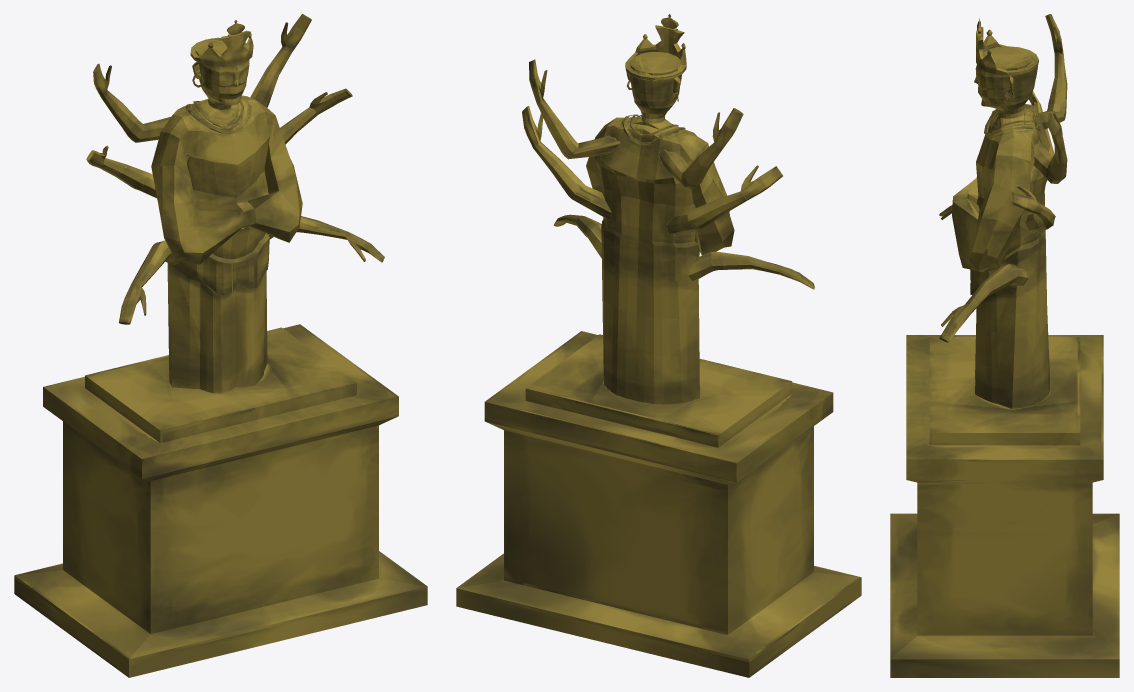
Rendered from f_statue_3.fbx.
The picture shows the model from 3 angles, left to right: view 1: azimuth 30°, elevation 25°; view 2: azimuth 150°, elevation 25°; view 3: azimuth 270°, elevation 25°; orthographic projection.
Visible parts, largest first — view 1: f_statue_3; view 2: f_statue_3; view 3: f_statue_3.
Boxes of the visible parts, x1,y1,x2,y2 form: f_statue_3: (14, 14, 427, 677); f_statue_3: (456, 14, 861, 677); f_statue_3: (890, 14, 1119, 677).
Bounding box in the file's own units: 517 × 974 × 344.
1 material, 1 textured.
